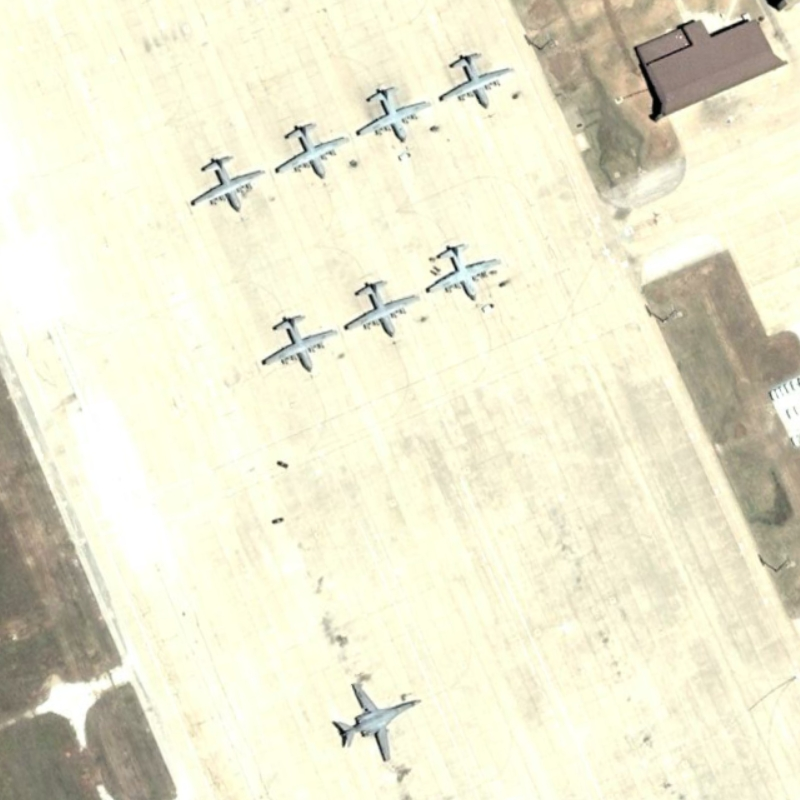A10: (319, 668, 424, 767)
A2: (338, 272, 430, 346), (421, 240, 507, 316), (272, 119, 359, 189), (440, 44, 519, 115), (354, 84, 430, 156), (261, 307, 337, 379), (185, 149, 263, 216)
